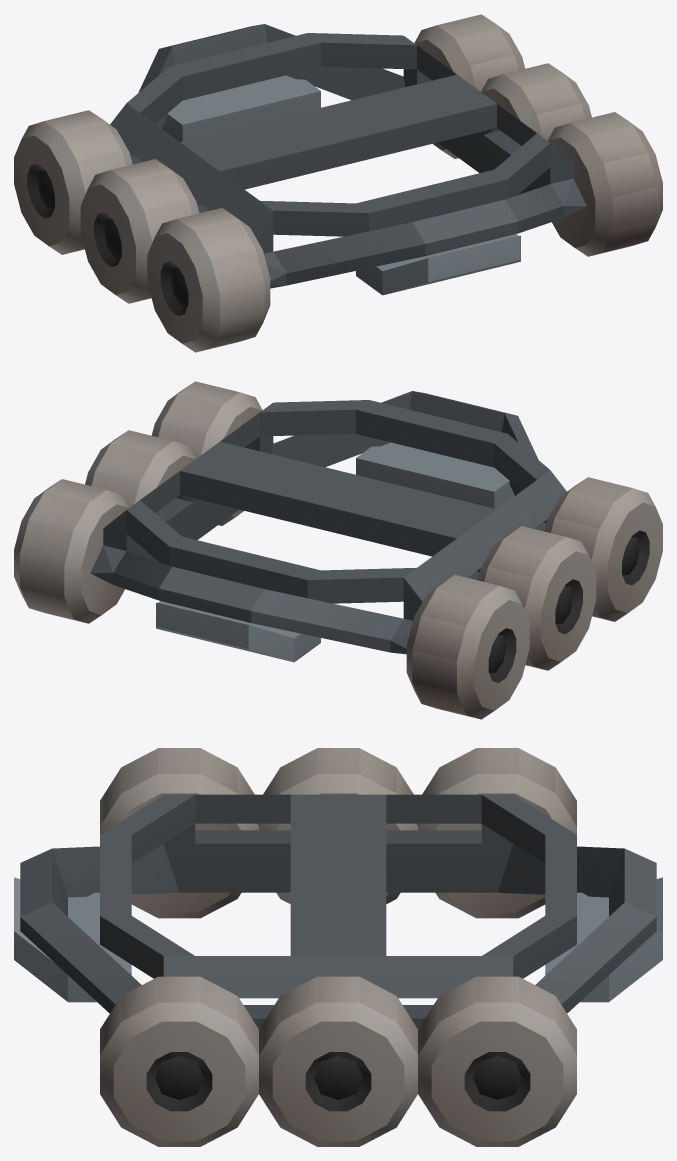
Rendered from mobile_base_frame.gltf.
The picture shows the model from 3 angles, top to bottom: view 1: azimuth 30°, elevation 25°; view 2: azimuth 150°, elevation 25°; view 3: azimuth 270°, elevation 25°; orthographic projection. The views are drawn at different scales.
Parts seen in each view (by area): view 1: mobile_base_frame, mobile_base_frame_wheel_right_front, mobile_base_frame_wheel_left_front, mobile_base_frame_wheel_right_middle, mobile_base_frame_wheel_right_rear, mobile_base_frame_wheel_left_rear, mobile_base_frame_wheel_left_middle; view 2: mobile_base_frame, mobile_base_frame_wheel_right_rear, mobile_base_frame_wheel_left_rear, mobile_base_frame_wheel_right_middle, mobile_base_frame_wheel_right_front, mobile_base_frame_wheel_left_front, mobile_base_frame_wheel_left_middle; view 3: mobile_base_frame, mobile_base_frame_wheel_left_front, mobile_base_frame_wheel_left_middle, mobile_base_frame_wheel_left_rear, mobile_base_frame_wheel_right_front, mobile_base_frame_wheel_right_rear, mobile_base_frame_wheel_right_middle.
Boxes of the visible parts, bbox=[...] form: mobile_base_frame: bbox=[110, 24, 586, 295]; mobile_base_frame_wheel_right_front: bbox=[147, 208, 270, 352]; mobile_base_frame_wheel_left_front: bbox=[547, 112, 662, 256]; mobile_base_frame_wheel_right_middle: bbox=[80, 159, 198, 303]; mobile_base_frame_wheel_right_rear: bbox=[14, 110, 132, 254]; mobile_base_frame_wheel_left_rear: bbox=[414, 14, 525, 158]; mobile_base_frame_wheel_left_middle: bbox=[481, 63, 591, 140]; mobile_base_frame: bbox=[90, 391, 566, 662]; mobile_base_frame_wheel_right_rear: bbox=[406, 575, 529, 719]; mobile_base_frame_wheel_left_rear: bbox=[14, 479, 129, 623]; mobile_base_frame_wheel_right_middle: bbox=[478, 526, 596, 670]; mobile_base_frame_wheel_right_front: bbox=[544, 477, 662, 621]; mobile_base_frame_wheel_left_front: bbox=[151, 381, 262, 525]; mobile_base_frame_wheel_left_middle: bbox=[85, 430, 195, 507]; mobile_base_frame: bbox=[14, 794, 662, 1028]; mobile_base_frame_wheel_left_front: bbox=[100, 976, 258, 1146]; mobile_base_frame_wheel_left_middle: bbox=[259, 976, 417, 1146]; mobile_base_frame_wheel_left_rear: bbox=[418, 976, 576, 1146]; mobile_base_frame_wheel_right_front: bbox=[100, 748, 258, 918]; mobile_base_frame_wheel_right_rear: bbox=[418, 748, 576, 918]; mobile_base_frame_wheel_right_middle: bbox=[259, 748, 417, 903].
Size of the model in its own units: 2 by 0.5 by 2.04.
Materials: 1 (1 with a texture image).
